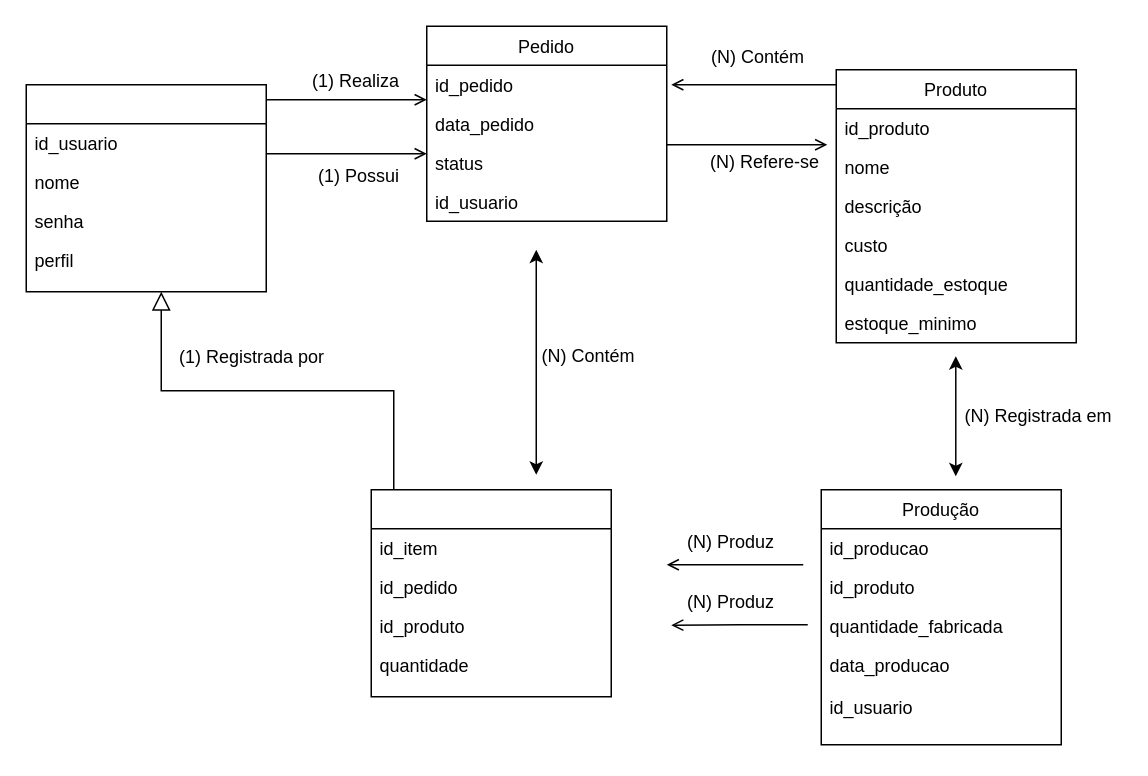
Image size: 1148x776. Some labels were removed from this diagram. The box of each missing label's shape, as (x1, y1, x2, y2) in pixels:
ItemPedido: (370, 488, 611, 697)
Usuário: (25, 83, 266, 292)
